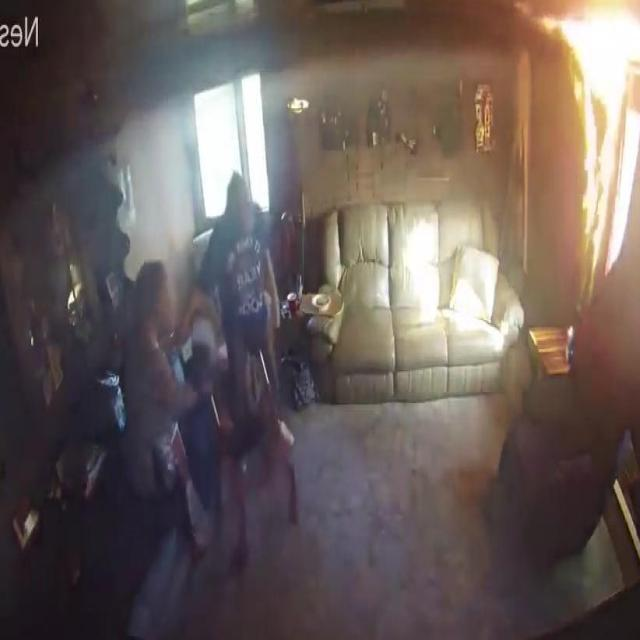fire: (236, 26, 504, 120)
smoke: (538, 8, 640, 274)
